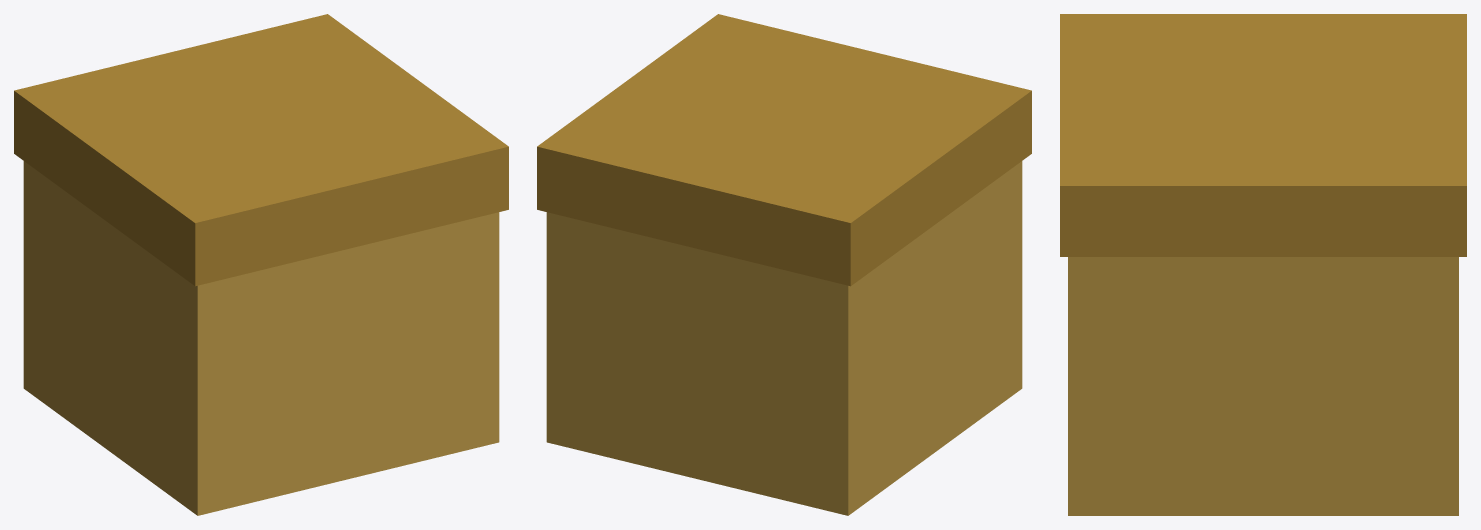
Rendered from product-box.glb.
The picture shows the model from 3 angles, left to right: view 1: azimuth 30°, elevation 25°; view 2: azimuth 150°, elevation 25°; view 3: azimuth 270°, elevation 25°; orthographic projection. The views are drawn at different scales.
Size of the model in its own units: 0.52 by 0.47 by 0.52.
